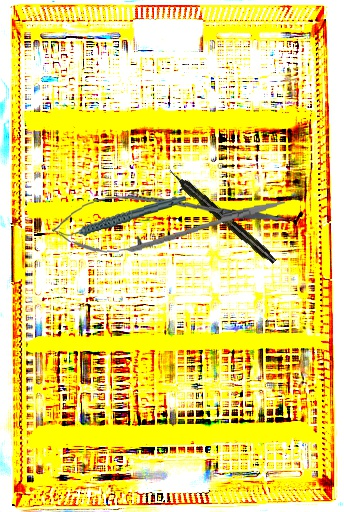Handpiece: (165, 165, 279, 267), (57, 195, 188, 238)
Micro Scissor: (49, 179, 289, 262)
